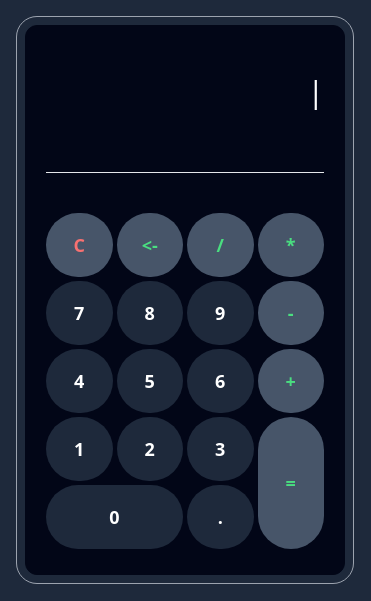
it: App › should render the result of the calculation
This screenshot has width=371, height=601.
Click the button "3" at coordinates (220, 448), box top-left (187, 416), bottom-right (254, 480)
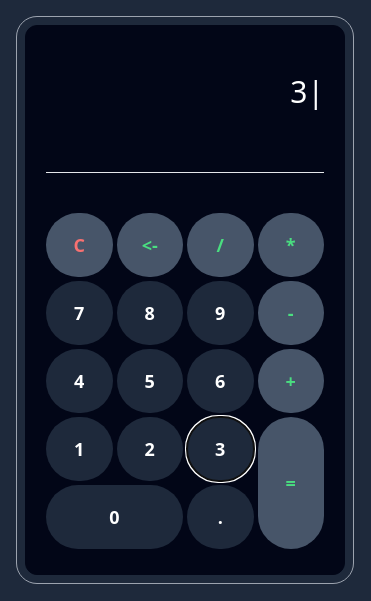
Click the button "+" at coordinates (291, 380), box top-left (258, 348), bottom-right (324, 412)
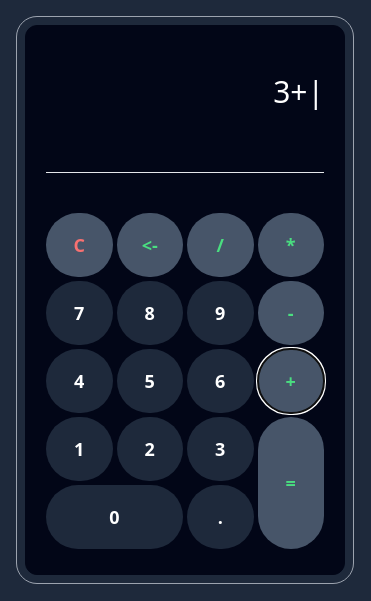
Click the button "3" at coordinates (220, 448), box top-left (187, 416), bottom-right (254, 480)
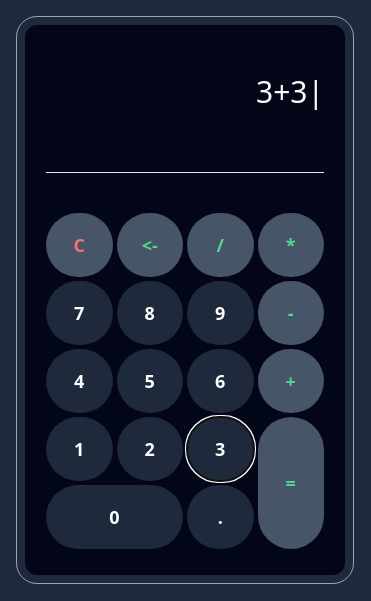
Click the button "=" at coordinates (291, 482), box top-left (258, 416), bottom-right (324, 548)
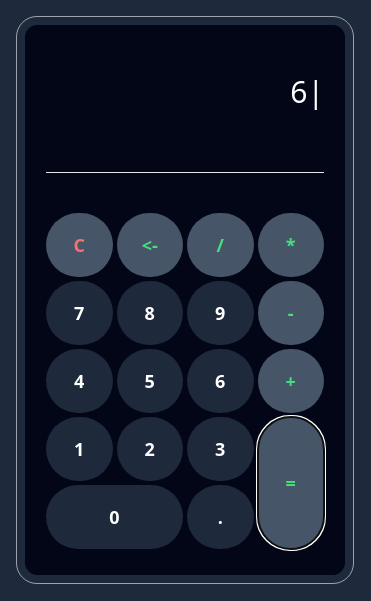
Now the field holds "6", box top-left (46, 74), bottom-right (308, 110)
